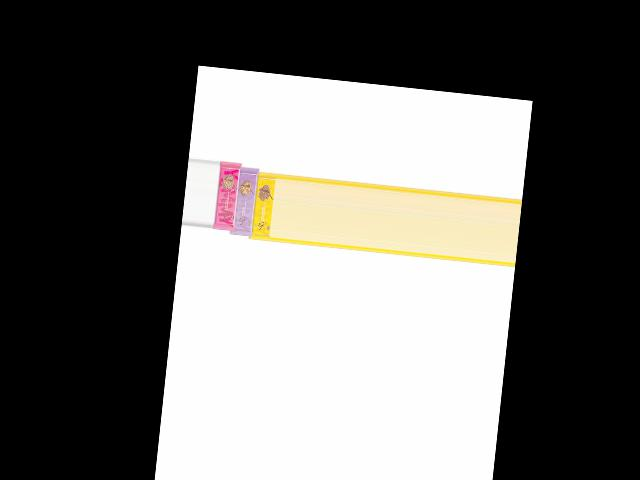chocolate: (211, 156, 242, 234)
